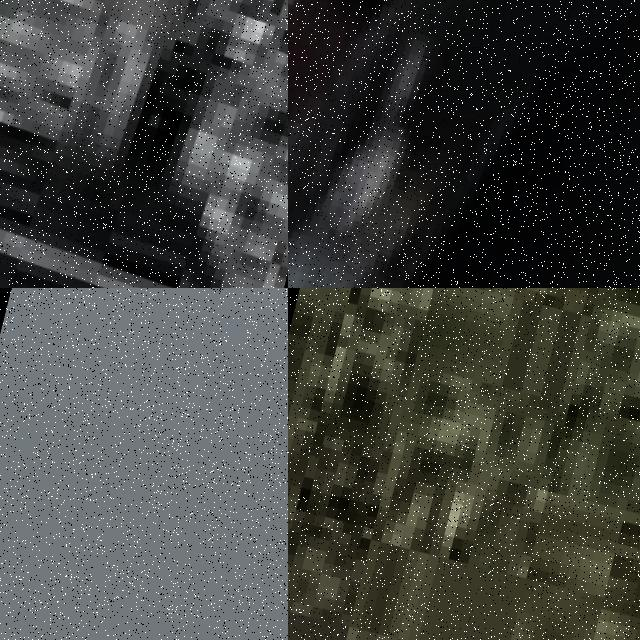drone: (288, 0, 640, 288), (0, 0, 288, 288)
